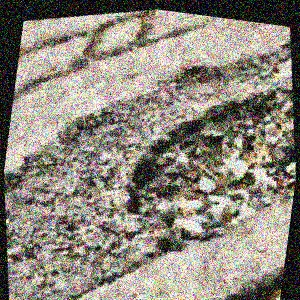pothole: (100, 63, 300, 279), (232, 257, 285, 300)
